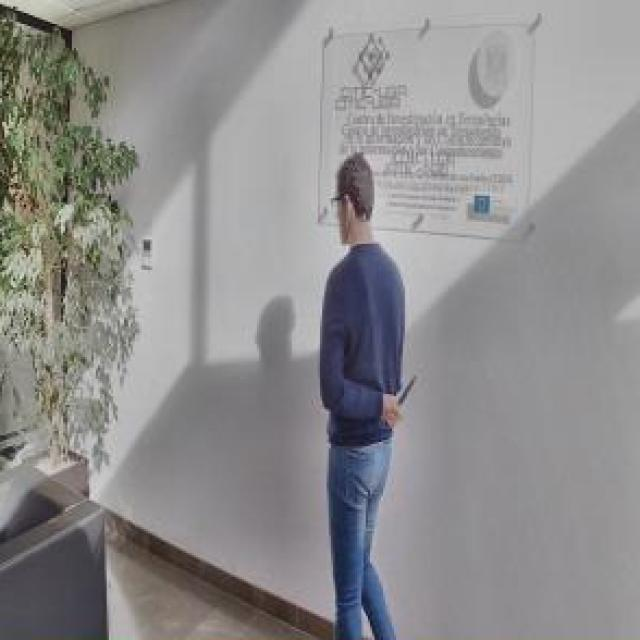knife: (383, 370, 421, 429)
